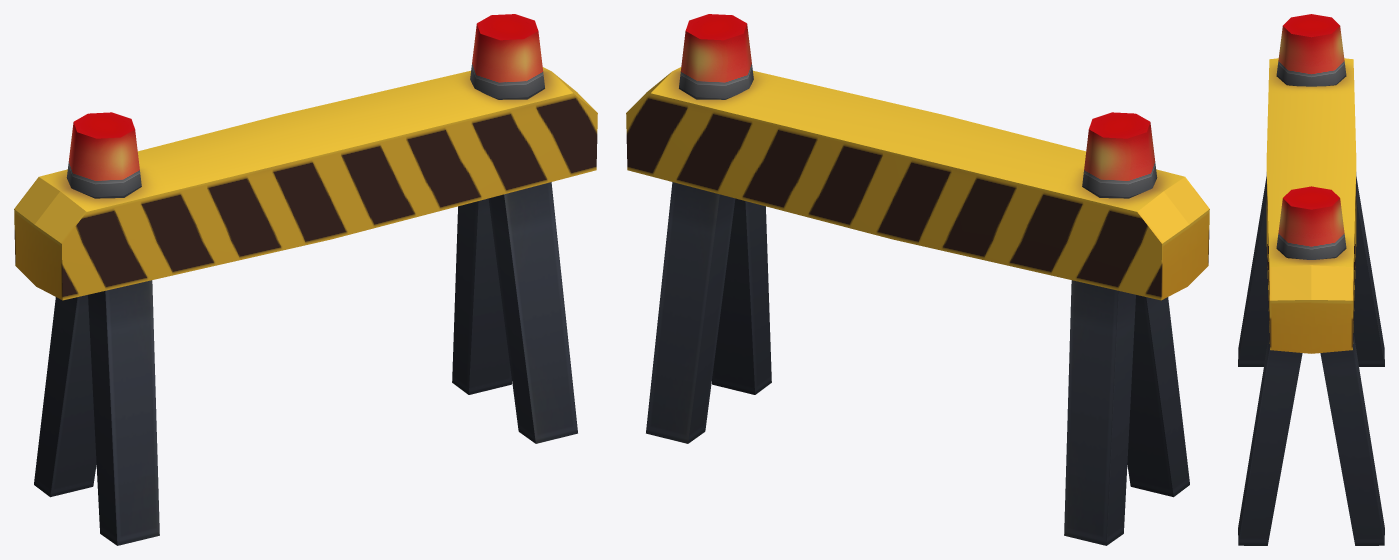
The model's file is luzhang.FBX.
3 views of the same model, side by side, from view 1: azimuth 30°, elevation 25°; view 2: azimuth 150°, elevation 25°; view 3: azimuth 270°, elevation 25° (orthographic). The views are drawn at different scales.
Parts seen in each view (by area): view 1: Box04; view 2: Box04; view 3: Box04.
Part boxes in pixels (left/top/right/bottom): Box04: left=14, top=14, right=597, bottom=545; Box04: left=626, top=14, right=1209, bottom=545; Box04: left=1238, top=14, right=1384, bottom=545.
Size of the model in its own units: 220 by 149 by 58.92.
Materials: 1 (1 with a texture image).
